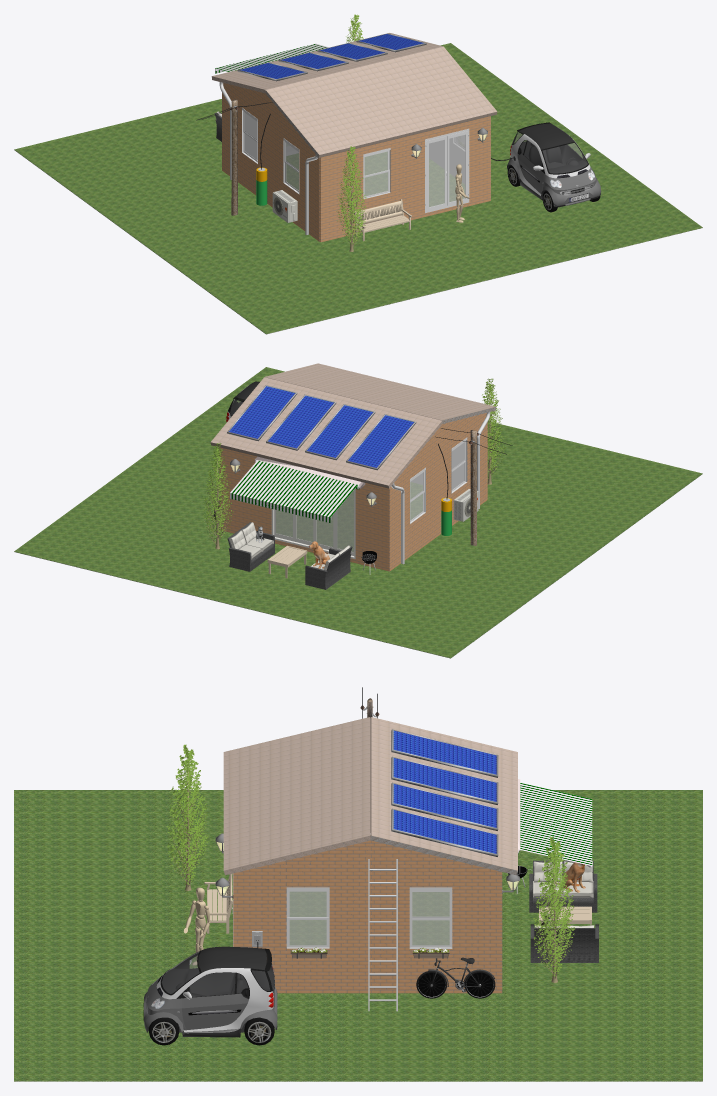
File: experimental-house.glb
3 views of the same model, one above another, from view 1: azimuth 30°, elevation 25°; view 2: azimuth 150°, elevation 25°; view 3: azimuth 270°, elevation 25° (orthographic). The views are drawn at different scales.
Visible parts, largest first — view 1: SV_BakedReceivers, SV_BakedRoof, Mini-house; view 2: SV_BakedReceivers, Mini-house, SV_BakedRoof; view 3: SV_BakedReceivers, Mini-house, SV_BakedRoof.
Boxes of the visible parts, x1,y1,x2,y2 form: SV_BakedReceivers: (14,33,702,334); SV_BakedRoof: (212,33,496,154); Mini-house: (196,14,601,251); SV_BakedReceivers: (14,367,702,658); Mini-house: (202,378,512,589); SV_BakedRoof: (211,363,495,485); SV_BakedReceivers: (14,717,702,1081); Mini-house: (143,687,598,1045); SV_BakedRoof: (223,717,517,870).
Bounding box in the file's own units: 1.3 × 0.3451 × 1.3.
123 materials, 22 textured.
